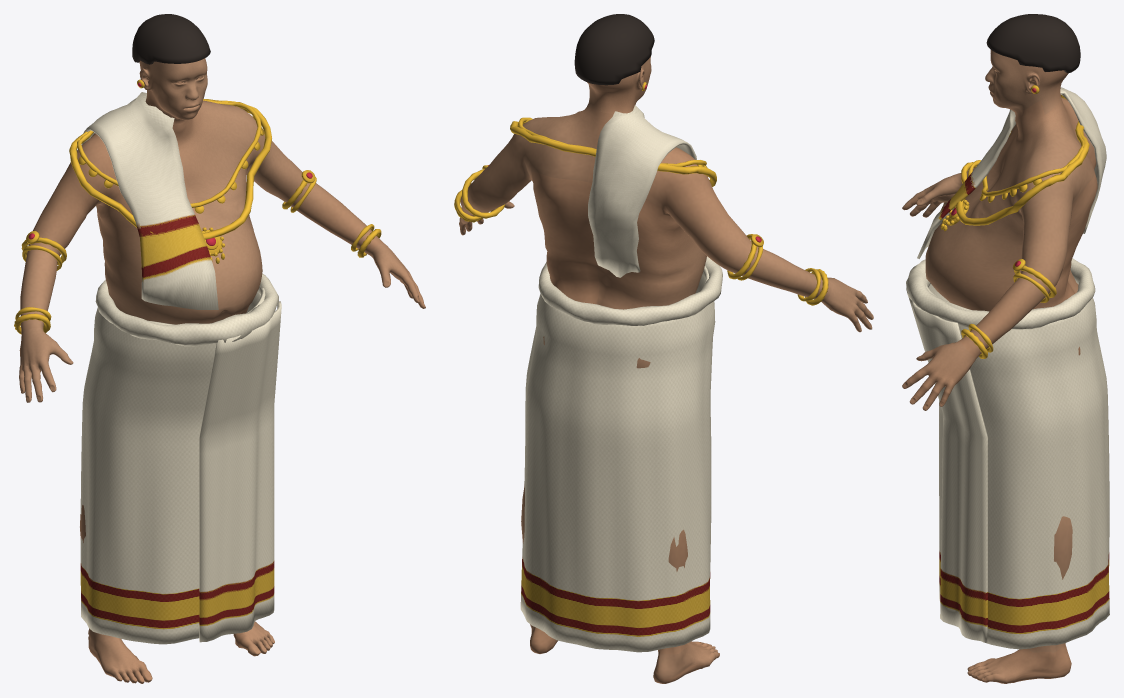
File: landlord.fbx
The picture shows the model from 3 angles, left to right: view 1: azimuth 30°, elevation 25°; view 2: azimuth 150°, elevation 25°; view 3: azimuth 270°, elevation 25°; orthographic projection.
Parts seen in each view (by area): view 1: Mixamo_landlord; view 2: Mixamo_landlord; view 3: Mixamo_landlord.
Part boxes in pixels (x1,y1,x2,y2): Mixamo_landlord: [14, 14, 425, 683]; Mixamo_landlord: [454, 14, 873, 683]; Mixamo_landlord: [902, 14, 1109, 683].
Bounding box in the file's own units: 1.14 × 1.72 × 0.5157.
6 materials, 4 textured.
